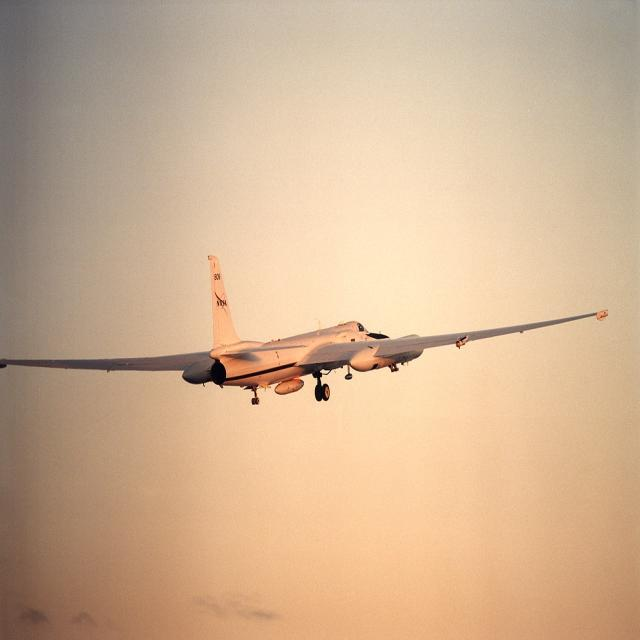MIL_Plane: (0, 252, 610, 406)
